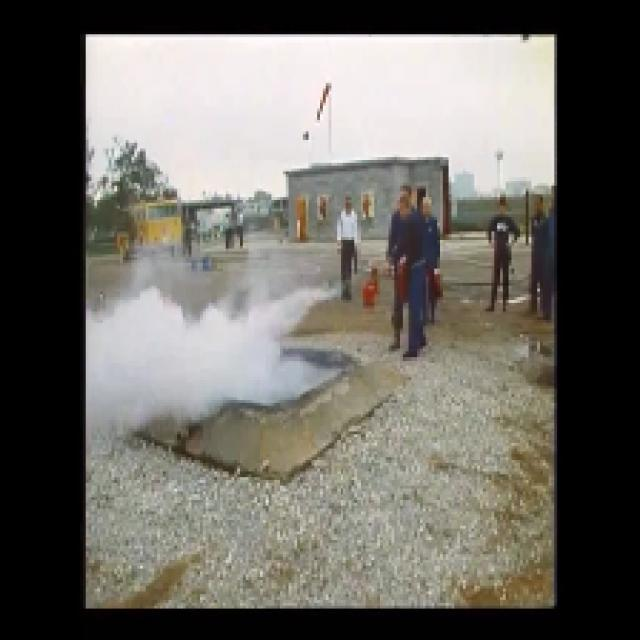Smoke: (91, 313, 280, 399)
